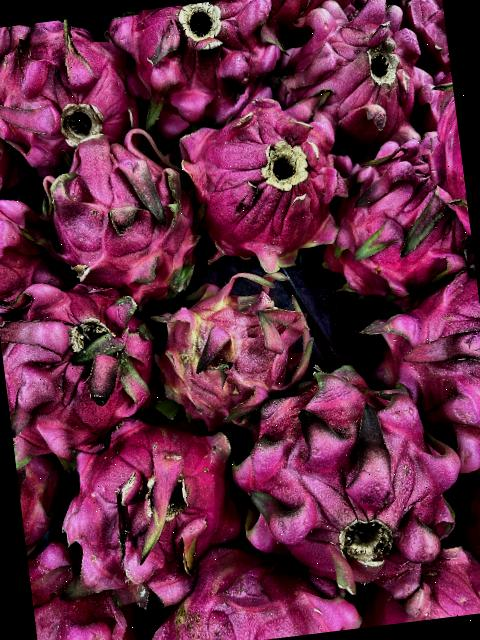buah-naga-belum-matang: (148, 280, 319, 420)
buah-naga-matang: (222, 360, 474, 602), (56, 412, 236, 602), (169, 92, 350, 272), (31, 124, 199, 305), (0, 267, 159, 451), (351, 272, 480, 478), (318, 132, 477, 298), (267, 0, 424, 148), (141, 533, 355, 640), (103, 0, 281, 125), (0, 18, 143, 162), (25, 528, 141, 640), (361, 544, 480, 626), (0, 181, 69, 302)
